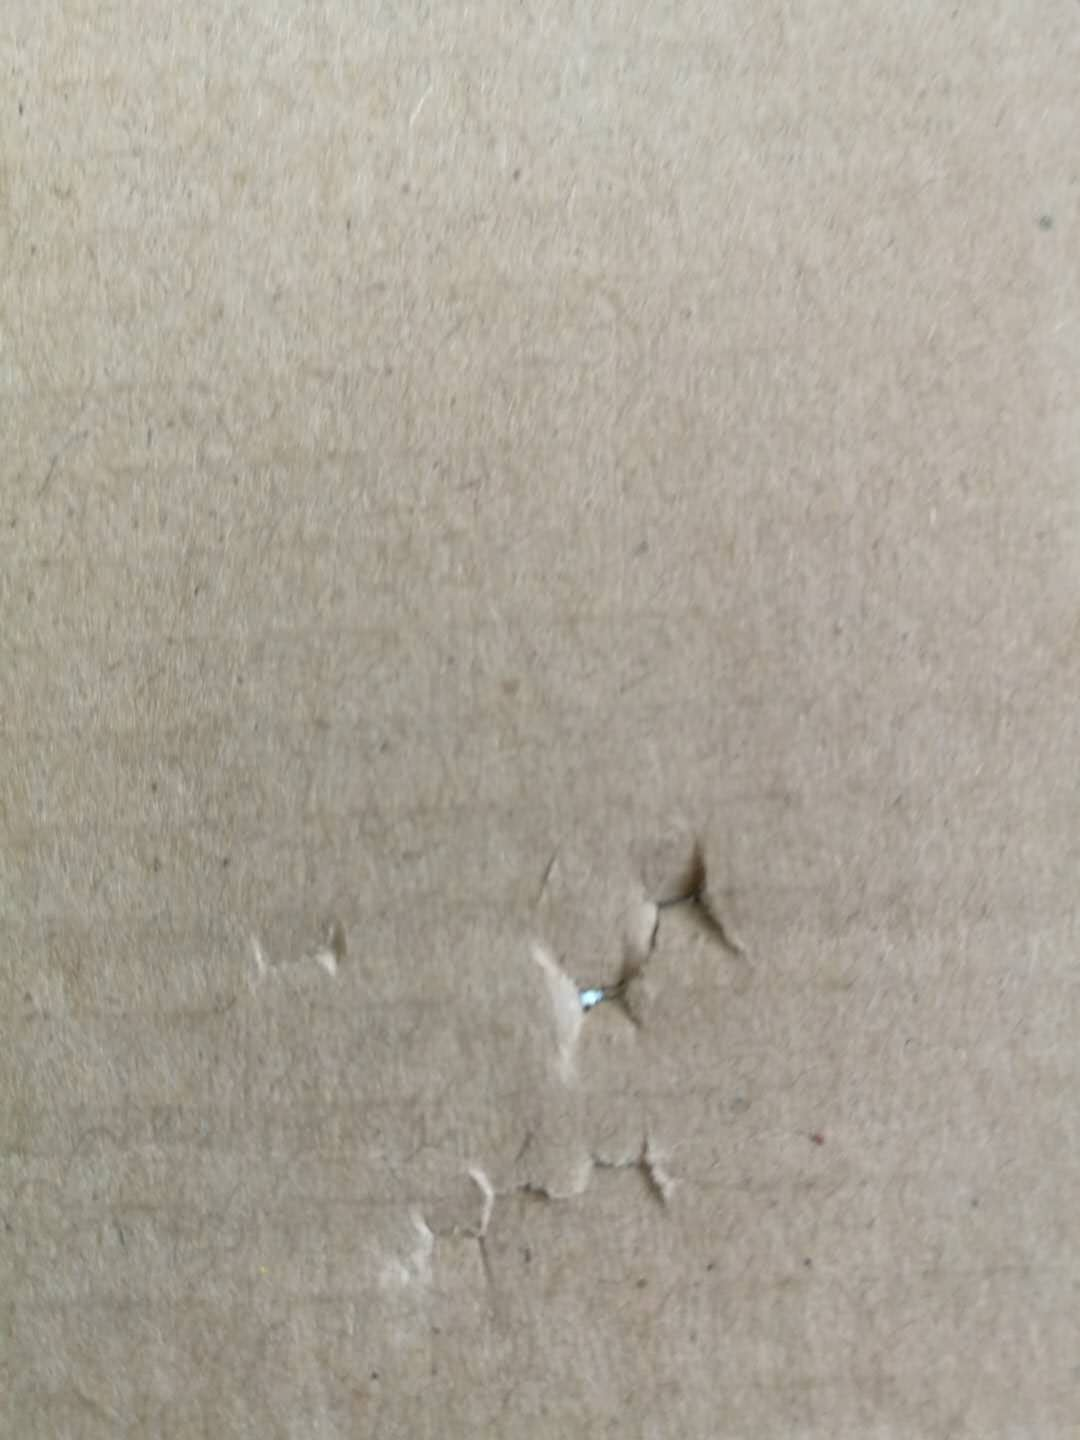defect: (505, 815, 785, 1115), (365, 1093, 720, 1315), (212, 867, 379, 988)
